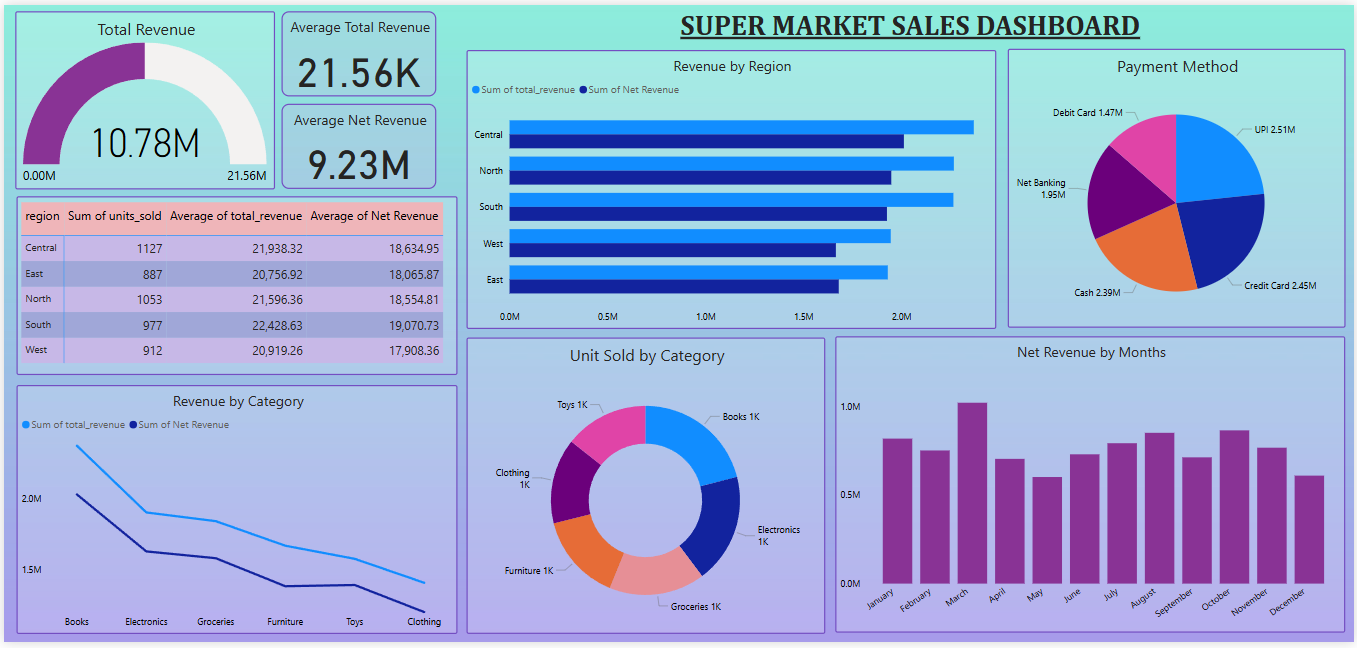

This screenshot's page, from the dashboard's own definition file:
{"tool":"powerbi","page":{"name":"Page 1","canvas":[1800,850],"ordinal":0},"visuals":[{"type":"textbox","box":[616.7,0,1183.3,58.3],"z":0},{"type":"donutChart","title":"Unit Sold by Category","fields":{"Category":["sales_data.product_category"],"Y":["CountNonNull(sales_data.units_sold)"]},"box":[616.7,443.3,478.3,395],"z":1000},{"type":"clusteredColumnChart","title":"Net Revenue by Months","fields":{"Y":["Sum(sales_data.Net Revenue)"],"Category":["sales_data.order_date.Variation.Date Hierarchy.Month"]},"box":[1108.3,441.7,680,395],"z":2000},{"type":"card","title":"Average Total Revenue","fields":{"Values":["Avg(sales_data.total_revenue)"]},"box":[370,8.3,206.7,113.3],"z":3000},{"type":"card","title":"Average Net Revenue","fields":{"Values":["Sum(sales_data.Net Revenue)"]},"box":[370,131.7,206.7,113.3],"z":4000},{"type":"pivotTable","title":"Net Revenue by Month","fields":{"Rows":["sales_data.region"],"Values":["Sum(sales_data.units_sold)","Avg(sales_data.total_revenue)","Avg(sales_data.Net Revenue)"]},"box":[16.7,255,588.3,238.3],"z":5000},{"type":"lineChart","title":"Revenue by Category","fields":{"Y":["Sum(sales_data.total_revenue)","Sum(sales_data.Net Revenue)"],"Category":["sales_data.product_category"]},"box":[16.7,506.7,588.3,331.7],"z":7000},{"type":"pieChart","title":"Payment Method","fields":{"Category":["sales_data.payment_method"],"Y":["Sum(sales_data.total_revenue)"]},"box":[1338,58,450,372],"z":8000},{"type":"gauge","title":"Total Revenue","fields":{"Y":["Sum(sales_data.total_revenue)"]},"box":[15.6,7.8,346.7,237.8],"z":9000},{"type":"clusteredBarChart","title":"Revenue by Region","fields":{"Category":["sales_data.region"],"Y":["Sum(sales_data.total_revenue)","Sum(sales_data.Net Revenue)"]},"box":[616,60,706,372],"z":10000}]}

Visuals, with their boxes in screenshot pixels (x1, y1, x2, y2), scaled from the page's 1800x850 canvas onto the 1357x648 screenshot:
textbox: left=465, top=0, right=1356, bottom=44
"Unit Sold by Category" donutChart: left=465, top=338, right=826, bottom=639
"Net Revenue by Months" clusteredColumnChart: left=836, top=337, right=1348, bottom=638
"Average Total Revenue" card: left=279, top=6, right=435, bottom=93
"Average Net Revenue" card: left=279, top=100, right=435, bottom=187
"Net Revenue by Month" pivotTable: left=13, top=194, right=456, bottom=376
"Revenue by Category" lineChart: left=13, top=386, right=456, bottom=639
"Payment Method" pieChart: left=1009, top=44, right=1348, bottom=328
"Total Revenue" gauge: left=12, top=6, right=273, bottom=187
"Revenue by Region" clusteredBarChart: left=464, top=46, right=997, bottom=329
